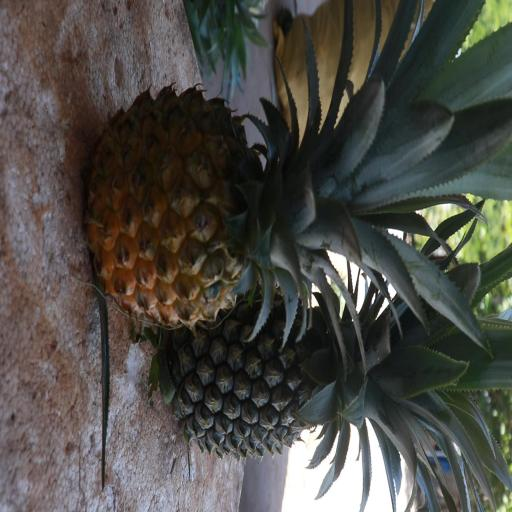Pineapple - v8 v1: (90, 80, 451, 341)
